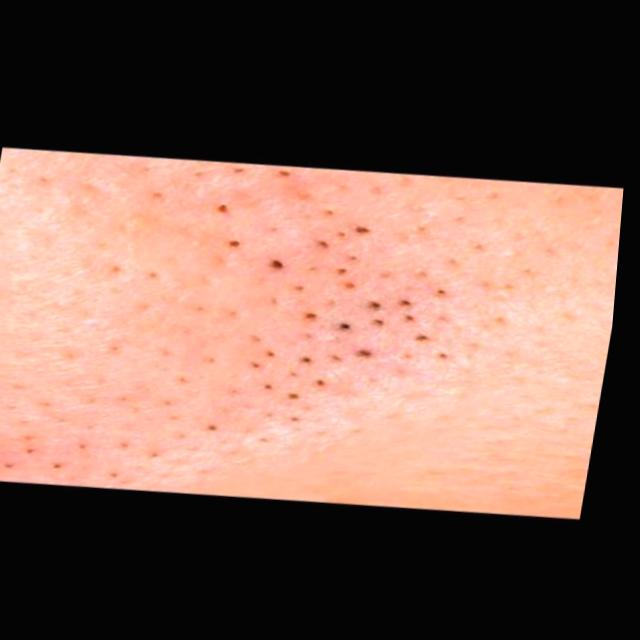blackhead: (93, 164, 533, 453)
